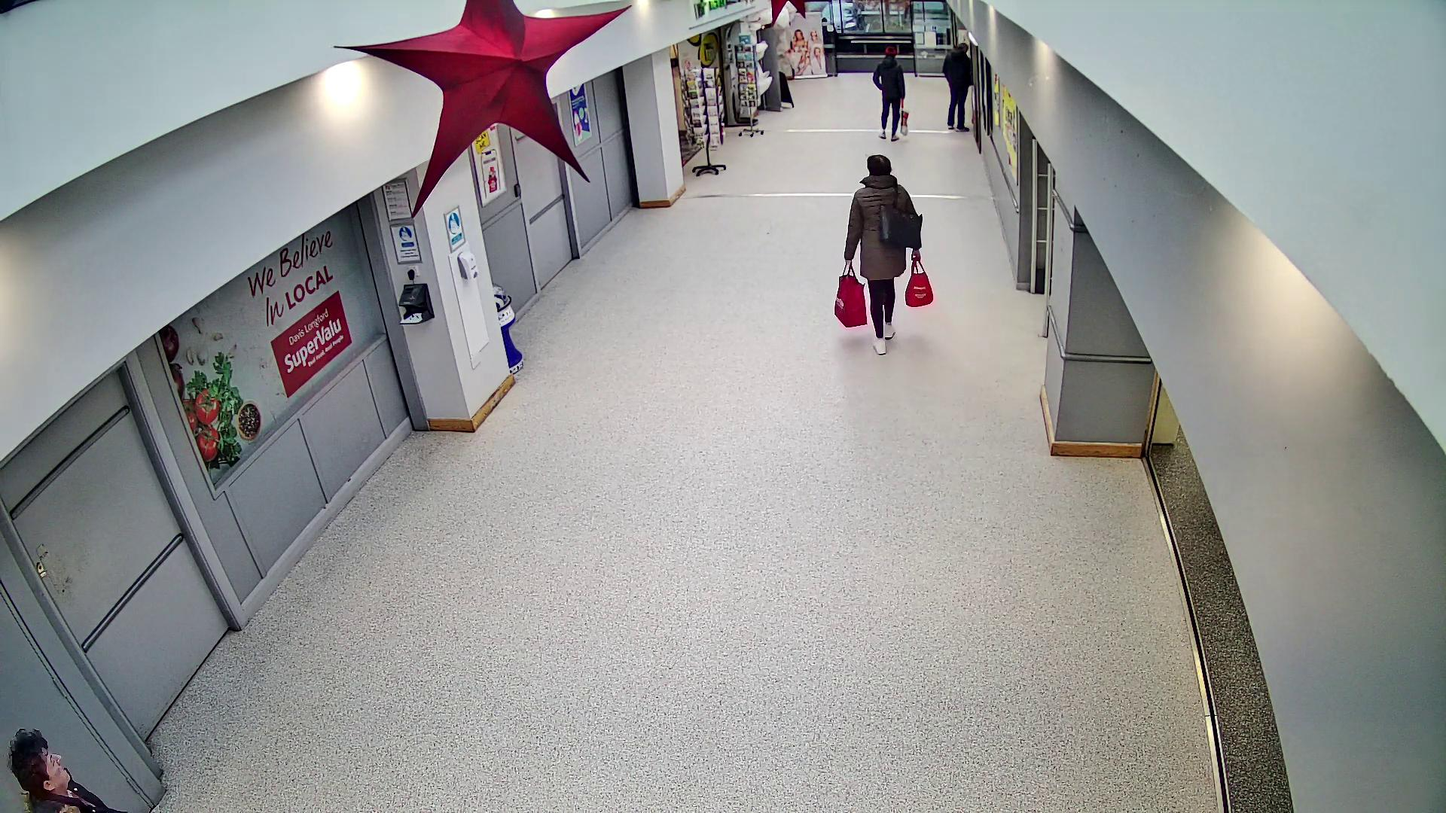backpack-or-handbag: (878, 204, 923, 248)
filled-shopping-bags: (834, 263, 868, 329), (905, 256, 933, 308)
person: (844, 154, 918, 354)
person-with-backpack-handbag-and-shopping-bag-s-: (834, 154, 933, 355)
